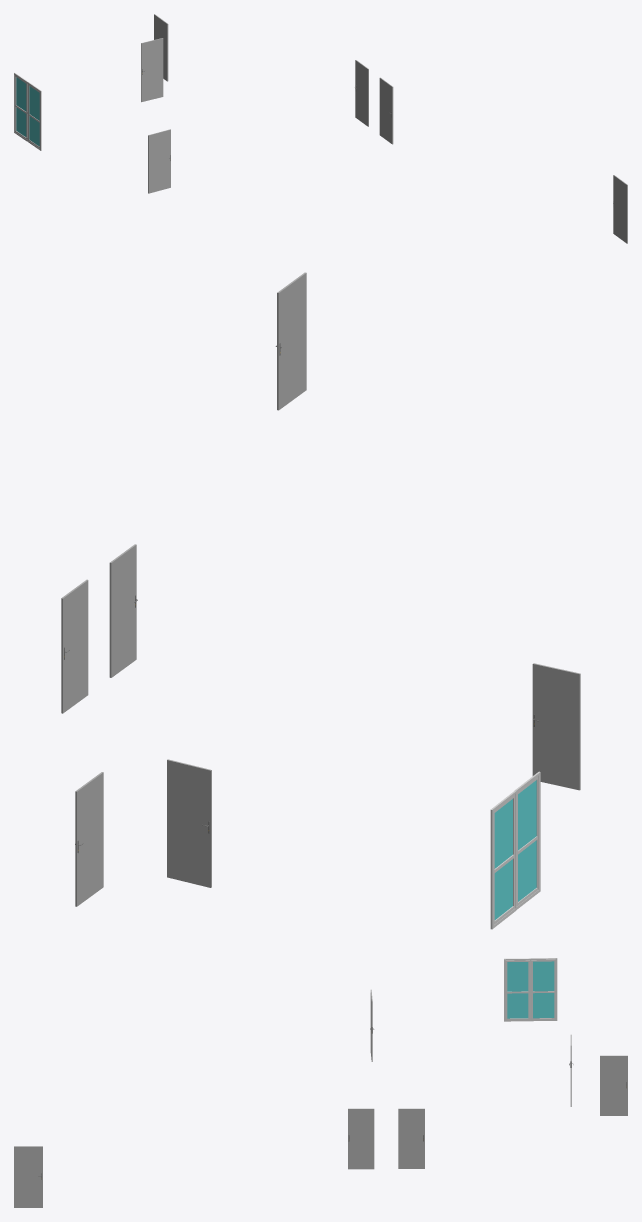
The model's file is rb3_Door.fbx.
3 views of the same model, one above another, from view 1: azimuth 30°, elevation 25°; view 2: azimuth 150°, elevation 25°; view 3: azimuth 270°, elevation 25° (orthographic). The views are drawn at different scales.
Parts seen in each view (by area): view 1: stena039.567, stena039.662, stena039.358, stena039.562, stena039.628, stena039.359, stena039.634, stena039.638; view 2: stena039.662, stena039.567, stena039.562, stena039.638, stena039.359, stena039.634, stena039.628, stena039.358; view 3: stena039.562, stena039.359, stena039.358, stena039.638, stena039.628, stena039.634.
Boxes of the visible parts, x1=… form: stena039.567: x1=141, y1=38, x2=163, y2=102; stena039.662: x1=148, y1=129, x2=170, y2=193; stena039.358: x1=27, y1=82, x2=41, y2=150; stena039.562: x1=613, y1=175, x2=627, y2=243; stena039.628: x1=379, y1=77, x2=393, y2=144; stena039.359: x1=14, y1=72, x2=27, y2=141; stena039.634: x1=355, y1=60, x2=368, y2=126; stena039.638: x1=154, y1=14, x2=168, y2=81; stena039.662: x1=532, y1=663, x2=580, y2=790; stena039.567: x1=167, y1=759, x2=211, y2=887; stena039.562: x1=275, y1=272, x2=306, y2=410; stena039.638: x1=75, y1=772, x2=103, y2=906; stena039.359: x1=490, y1=791, x2=516, y2=929; stena039.634: x1=61, y1=579, x2=88, y2=713; stena039.628: x1=109, y1=544, x2=137, y2=677; stena039.358: x1=514, y1=771, x2=540, y2=909; stena039.562: x1=14, y1=1146, x2=42, y2=1207; stena039.359: x1=530, y1=958, x2=557, y2=1021; stena039.358: x1=504, y1=958, x2=530, y2=1021; stena039.638: x1=600, y1=1055, x2=627, y2=1115; stena039.628: x1=348, y1=1108, x2=374, y2=1169; stena039.634: x1=398, y1=1108, x2=424, y2=1168.
Bounding box in the file's own units: 1270 × 228 × 1822.
